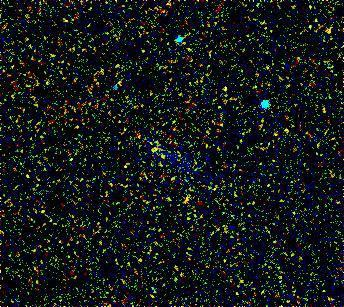star: (143, 135, 173, 165)
